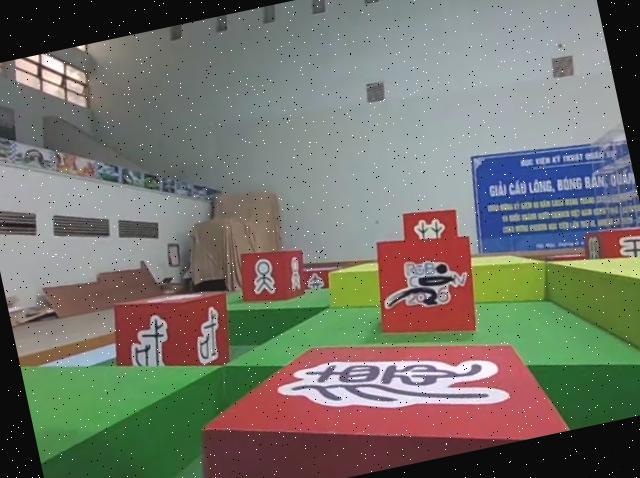R1: (367, 223, 491, 351)
R2 Fake: (167, 296, 574, 478)
R2 Real: (102, 281, 241, 391), (232, 242, 313, 310)
